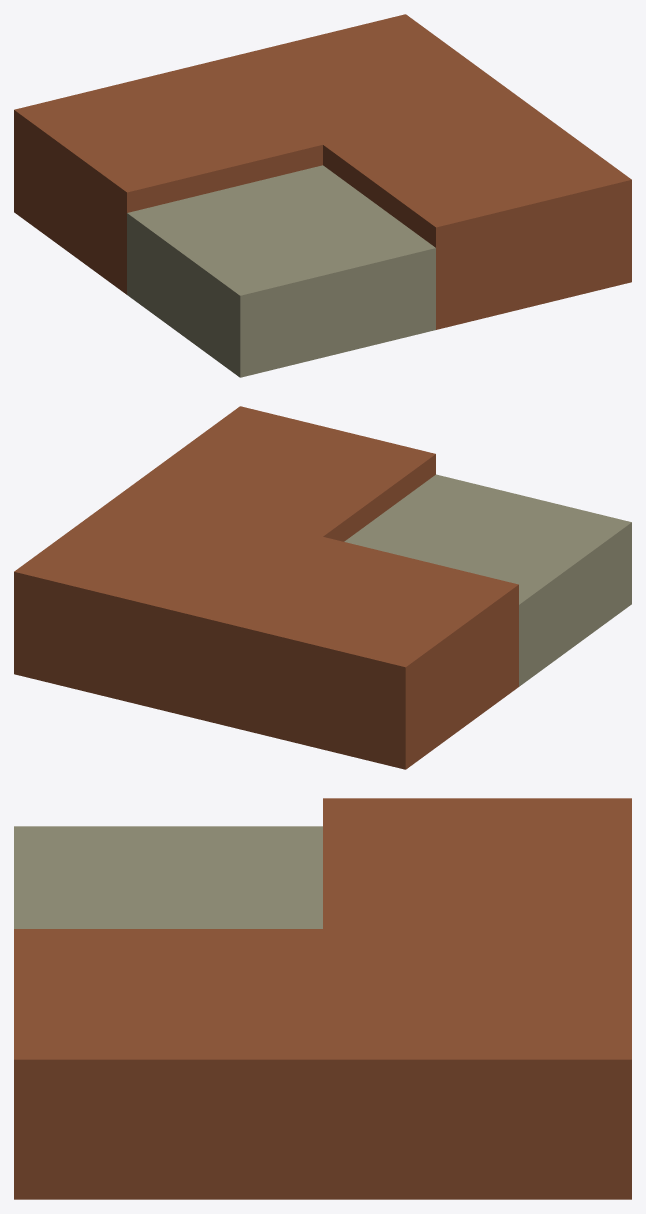
Rendered from Floor-Outdoor-4x4x1-Path-Wide-End-Square.FBX.
3 renders of one model, top to bottom at view 1: azimuth 30°, elevation 25°; view 2: azimuth 150°, elevation 25°; view 3: azimuth 270°, elevation 25°, orthographic. The views are drawn at different scales.
Visible parts, largest first — view 1: Floor-Outdoor-4x4x1-Path-Wide-End-Square; view 2: Floor-Outdoor-4x4x1-Path-Wide-End-Square; view 3: Floor-Outdoor-4x4x1-Path-Wide-End-Square.
Boxes of the visible parts, left/top/right/bottom form: Floor-Outdoor-4x4x1-Path-Wide-End-Square: left=14, top=14, right=631, bottom=377; Floor-Outdoor-4x4x1-Path-Wide-End-Square: left=14, top=406, right=631, bottom=769; Floor-Outdoor-4x4x1-Path-Wide-End-Square: left=14, top=798, right=631, bottom=1199.
Bounding box in the file's own units: 40 × 40 × 10.
